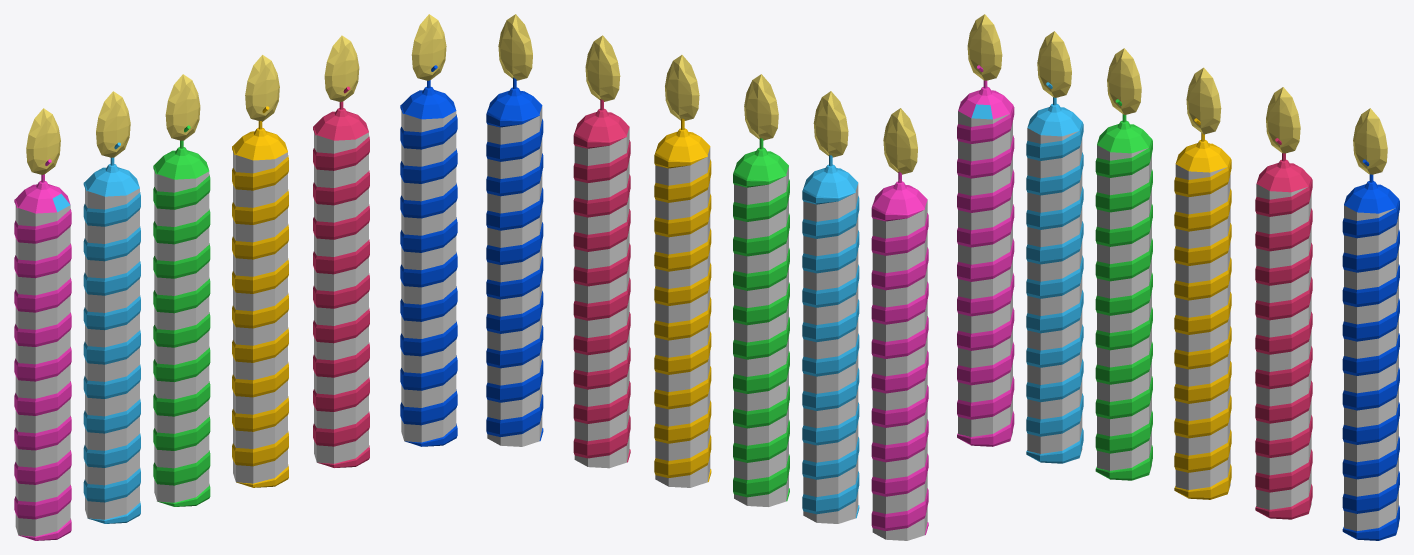
Rendered from 7e88a8f2-f8d4-4740-a20f-769aab1f086b.glb.
The picture shows the model from 3 angles, left to right: view 1: azimuth 30°, elevation 25°; view 2: azimuth 150°, elevation 25°; view 3: azimuth 330°, elevation 25°; orthographic projection.
Visible parts, largest first — view 1: Node; view 2: Node; view 3: Node.
Part boxes in pixels (x1=…): Node: x1=14, y1=14, x2=457, y2=540; Node: x1=486, y1=14, x2=928, y2=540; Node: x1=957, y1=14, x2=1399, y2=540.
Bounding box in the file's own units: 13.27 × 12.24 × 1.56.
